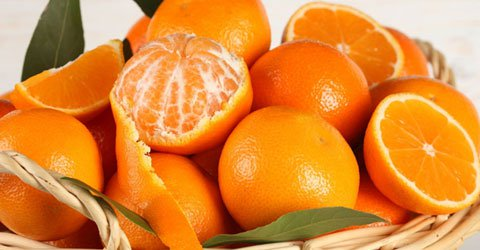orange: (219, 103, 366, 248), (115, 32, 254, 153), (361, 88, 480, 226), (1, 105, 110, 245), (254, 42, 383, 132)
